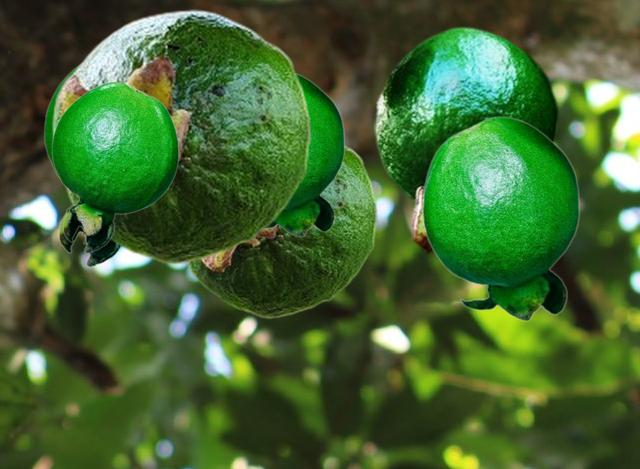guava: (51, 9, 311, 264), (374, 25, 559, 257), (184, 144, 377, 318), (421, 116, 579, 320), (51, 81, 178, 252), (43, 66, 121, 266), (267, 73, 344, 236)
